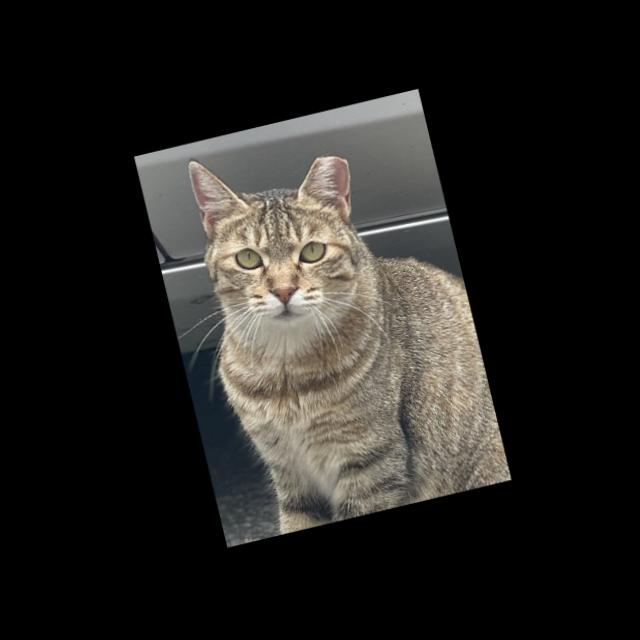animals: (168, 119, 392, 365)
